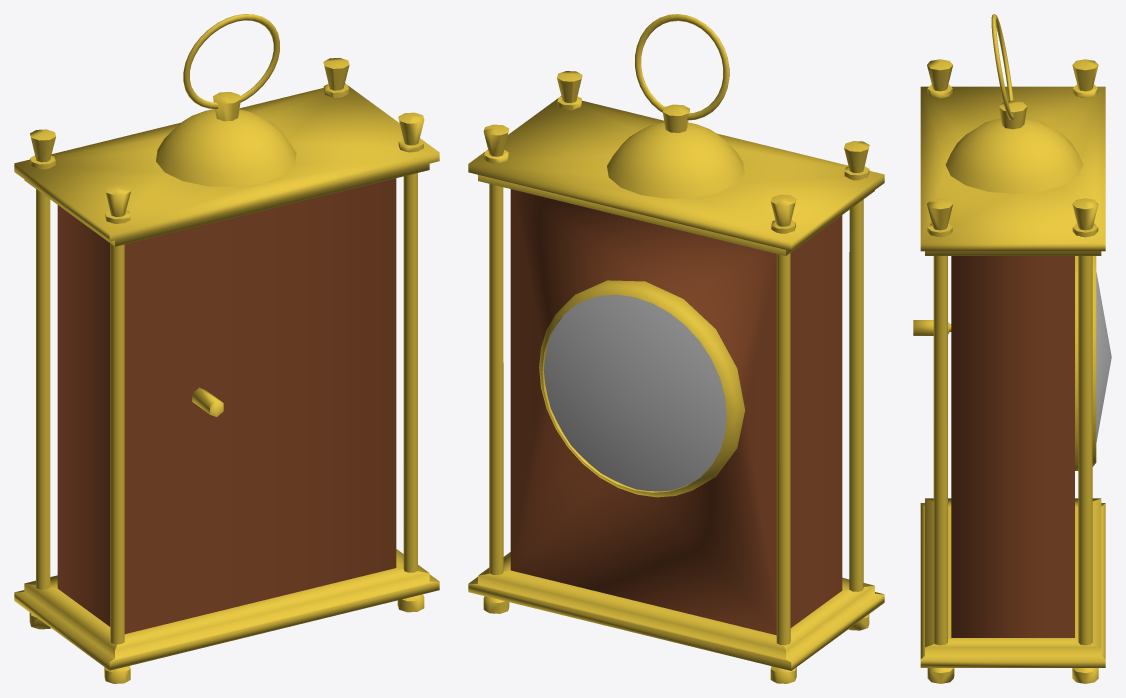
The model's file is Clock.fbx.
3 renders of one model, left to right at view 1: azimuth 30°, elevation 25°; view 2: azimuth 150°, elevation 25°; view 3: azimuth 270°, elevation 25°, orthographic. The views are drawn at different scales.
Visible parts, largest first — view 1: mantel_clock_mantel_clock_0; view 2: mantel_clock_mantel_clock_0; view 3: mantel_clock_mantel_clock_0.
Part boxes in pixels (x1,y1,x2,y2): mantel_clock_mantel_clock_0: (14,14,439,683); mantel_clock_mantel_clock_0: (468,14,884,683); mantel_clock_mantel_clock_0: (913,14,1111,683).
Size of the model in its own units: 31.42 by 55.23 by 16.86.
